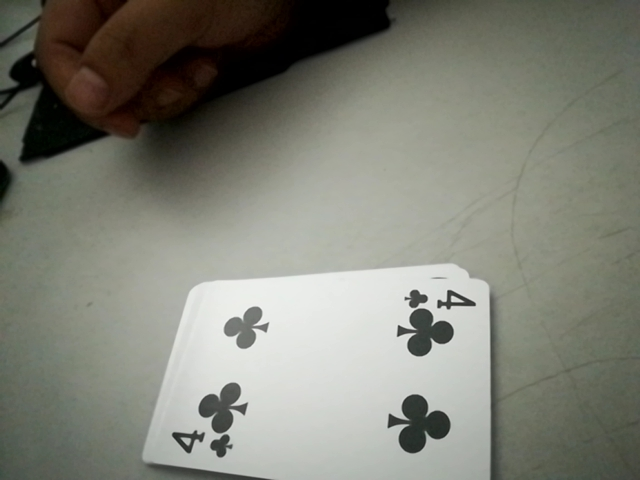mh 4: (397, 279, 484, 312), (159, 429, 238, 464)
